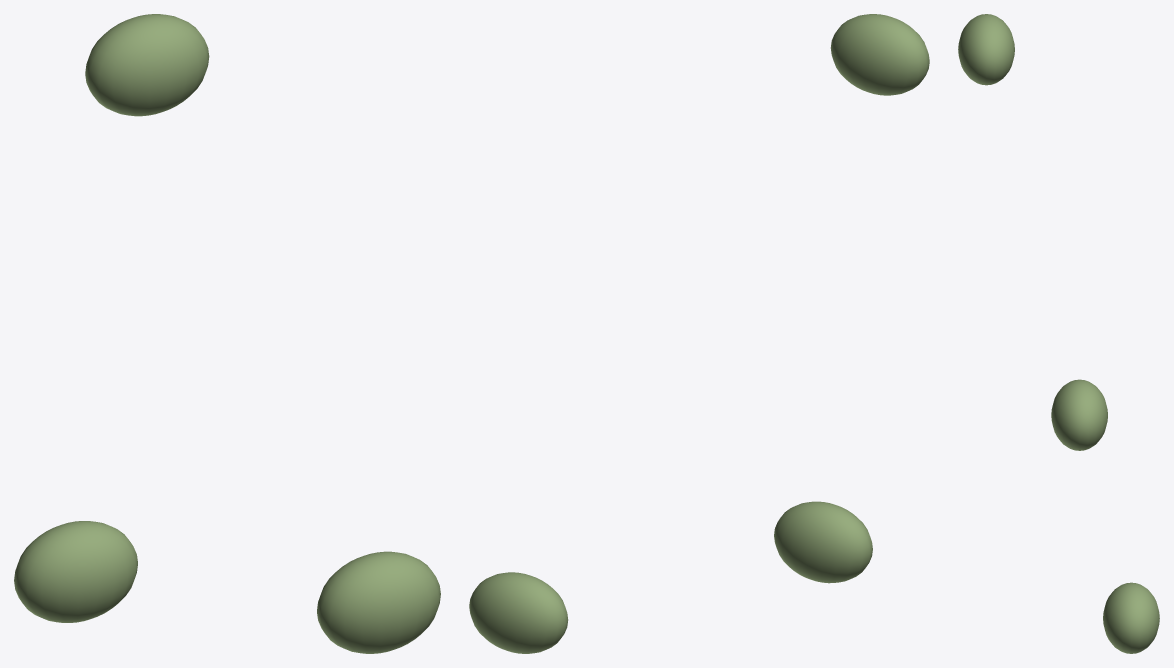
File: lymphatic-system.glb
3 renders of one model, left to right at view 1: azimuth 30°, elevation 25°; view 2: azimuth 150°, elevation 25°; view 3: azimuth 270°, elevation 25°, orthographic. The views are drawn at different scales.
Visible parts, largest first — view 1: dev-marker-thymus, dev-marker-lymph-vessels, dev-marker-spleen; view 2: dev-marker-thymus, dev-marker-spleen, dev-marker-lymph-vessels; view 3: dev-marker-lymph-vessels, dev-marker-thymus, dev-marker-spleen.
Part boxes in pixels (x1,y1,x2,y2): dev-marker-thymus: (85,14,209,116); dev-marker-lymph-vessels: (14,521,137,622); dev-marker-spleen: (317,551,440,653); dev-marker-thymus: (830,14,929,95); dev-marker-spleen: (469,572,568,653); dev-marker-lymph-vessels: (774,501,872,583); dev-marker-lymph-vessels: (1051,379,1107,450); dev-marker-thymus: (958,14,1014,85); dev-marker-spleen: (1103,582,1159,653).
Bounding box in the file's own units: 0.67 × 1.11 × 0.39.
